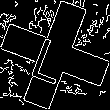L_N: (31, 26, 79, 84)
